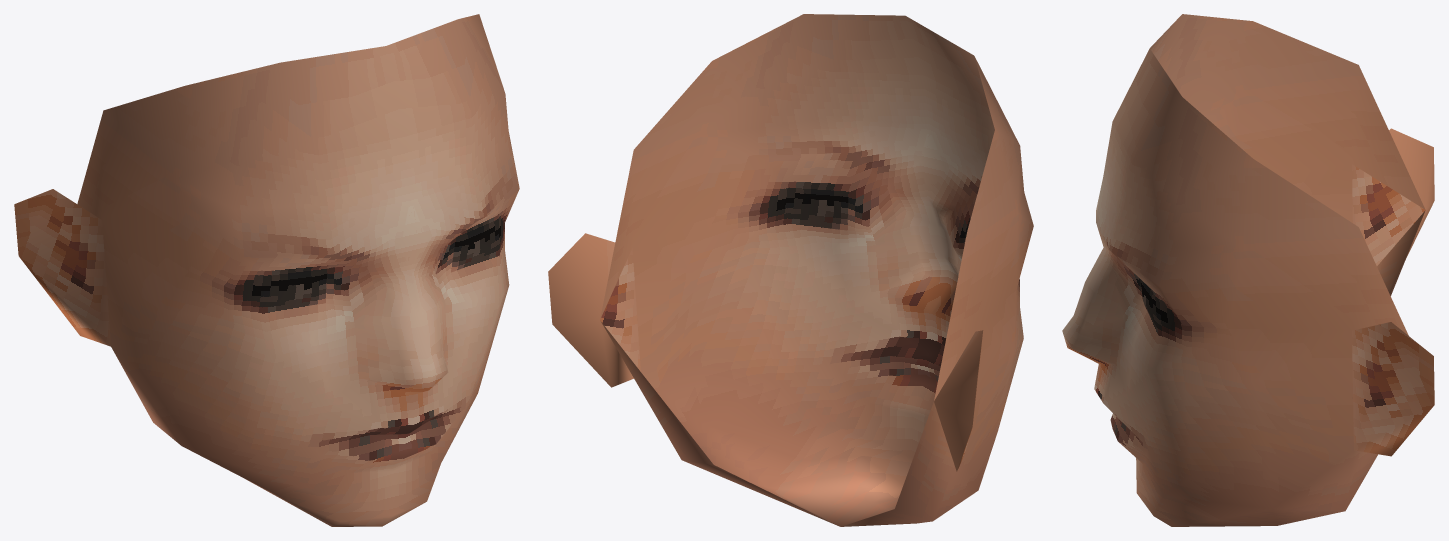
3 views of the same model, side by side, from view 1: azimuth 30°, elevation 25°; view 2: azimuth 150°, elevation 25°; view 3: azimuth 270°, elevation 25° (orthographic). The views are drawn at different scales.
Size of the model in its own units: 19.4 by 20.05 by 14.63.
Materials: 1 (1 with a texture image).
